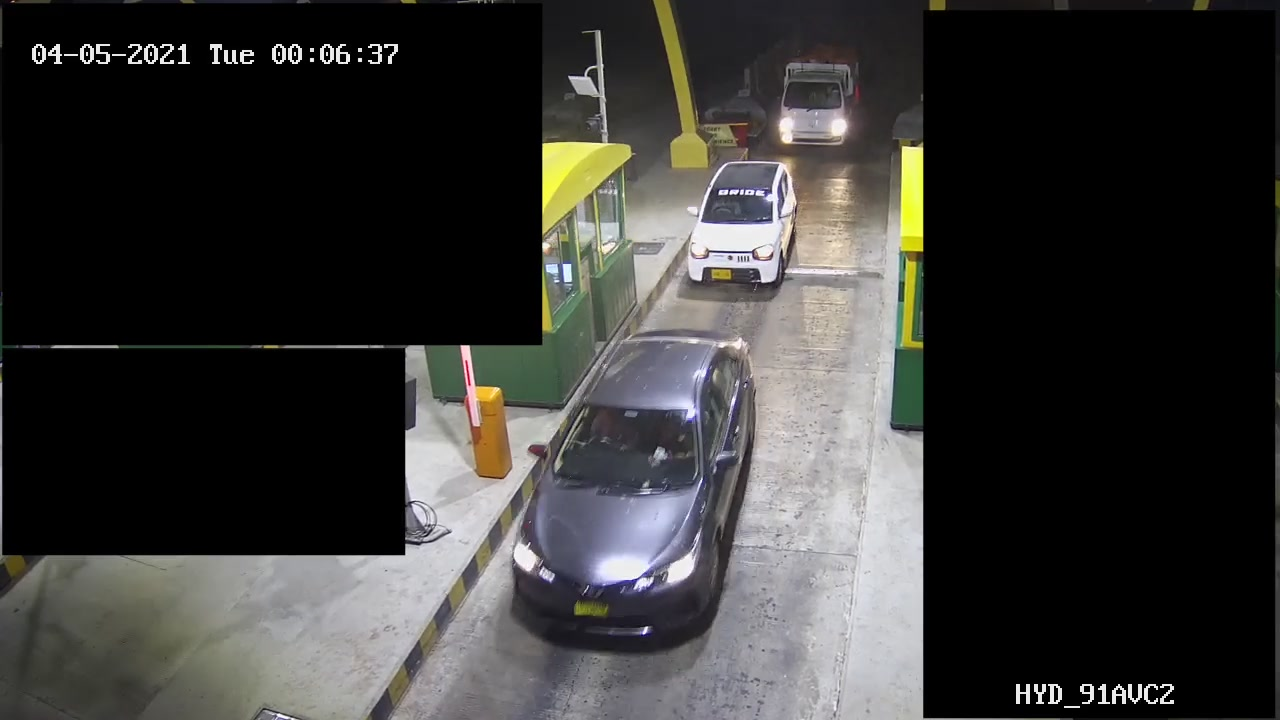F1: (510, 322, 763, 647), (676, 158, 801, 308)
